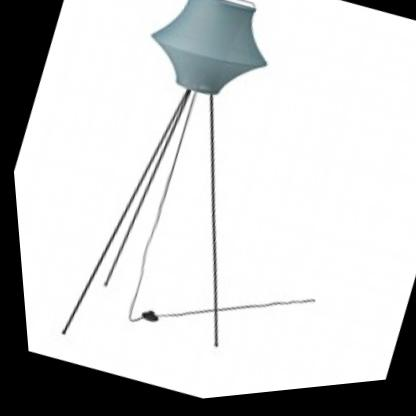Lamp: (17, 0, 340, 398)
